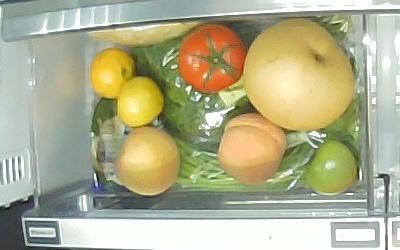peach: (218, 112, 287, 186), (116, 126, 182, 198)
pear: (243, 17, 355, 132)
tangerine: (117, 75, 165, 129), (90, 48, 136, 100)
tomato: (176, 23, 248, 95), (304, 140, 358, 197)
